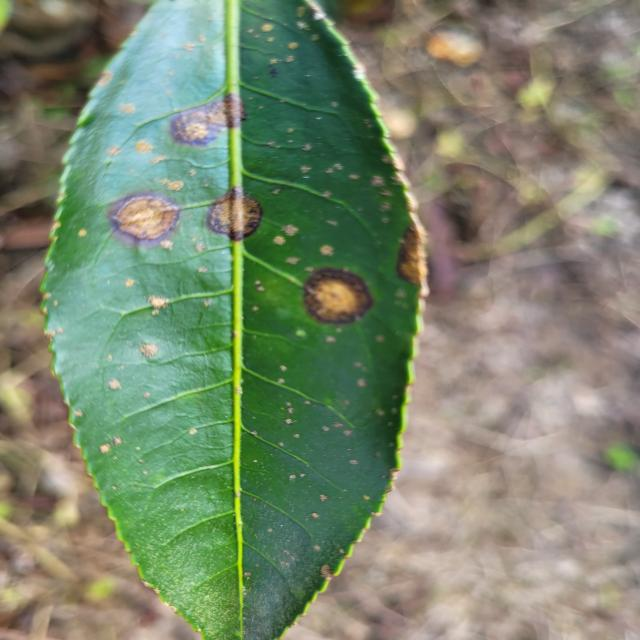Category D(7+ days, Not for Tea): (38, 2, 433, 640)
